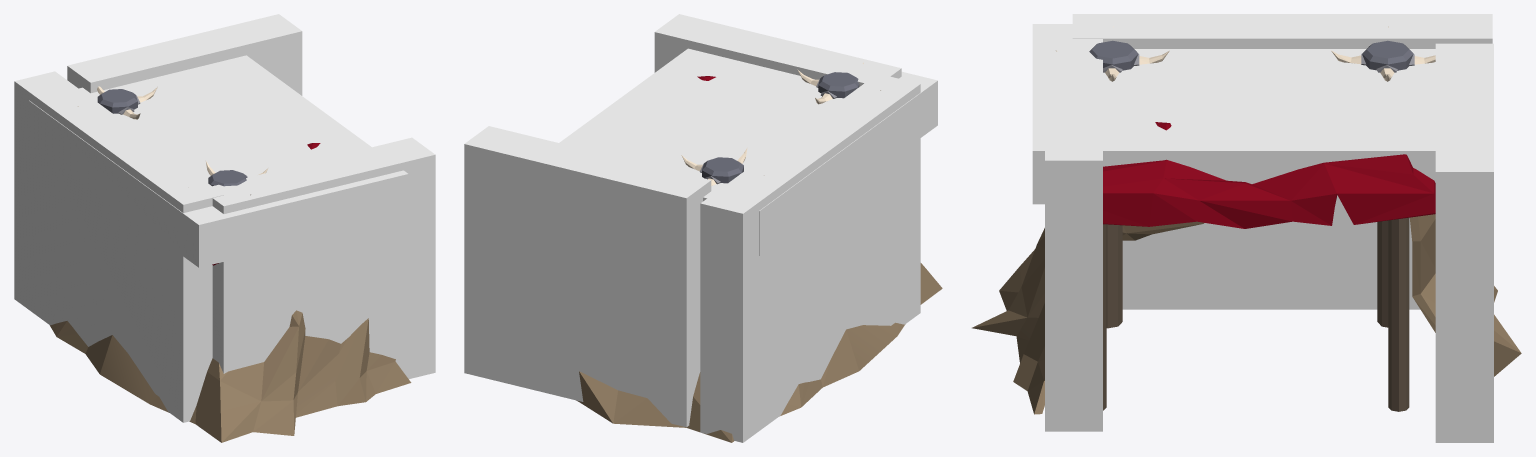
The model's file is orc_hut.gltf.
3 views of the same model, side by side, from view 1: azimuth 30°, elevation 25°; view 2: azimuth 150°, elevation 25°; view 3: azimuth 270°, elevation 25° (orthographic). The views are drawn at different scales.
Parts seen in each view (by area): view 1: Cube.001, Cube, Cube.002, tent_2, Cube.004; view 2: Cube.004, Cube.001, Cube, tent_2, Cube.002; view 3: Cube, tent_2, Cube.001, Cube.004, Cube.002.
Boxes of the visible parts, bbox=[...] form: Cube.001: bbox=[14, 71, 223, 422]; Cube: bbox=[29, 55, 408, 267]; Cube.002: bbox=[212, 137, 435, 378]; tent_2: bbox=[50, 86, 411, 442]; Cube.004: bbox=[67, 14, 302, 95]; Cube.004: bbox=[464, 126, 711, 427]; Cube.001: bbox=[700, 73, 920, 442]; Cube: bbox=[559, 48, 937, 255]; tent_2: bbox=[576, 62, 942, 442]; Cube.002: bbox=[654, 14, 901, 86]; Cube: bbox=[1032, 24, 1435, 204]; tent_2: bbox=[972, 26, 1521, 414]; Cube.001: bbox=[1072, 14, 1492, 309]; Cube.004: bbox=[1435, 43, 1493, 442]; Cube.002: bbox=[1045, 32, 1102, 431].
Bounding box in the file's own units: 2.54 × 1.93 × 3.51.
Materials: 5 (1 with a texture image).
